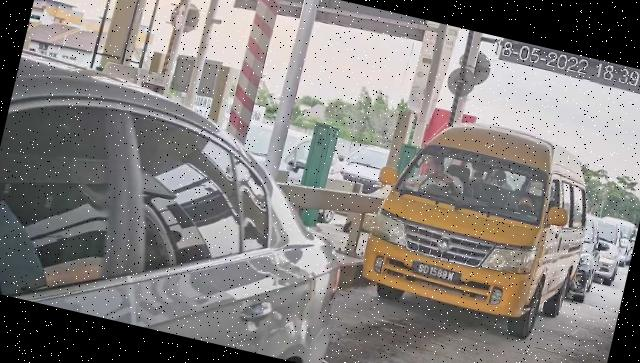License_Plate: (407, 258, 464, 289)
van: (355, 105, 605, 349)
